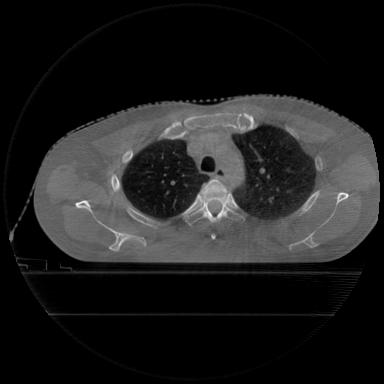body: (35, 95, 379, 262)
cord: (182, 179, 245, 225)
paru kanan: (122, 140, 209, 219)
paru kiri: (232, 124, 316, 219)
